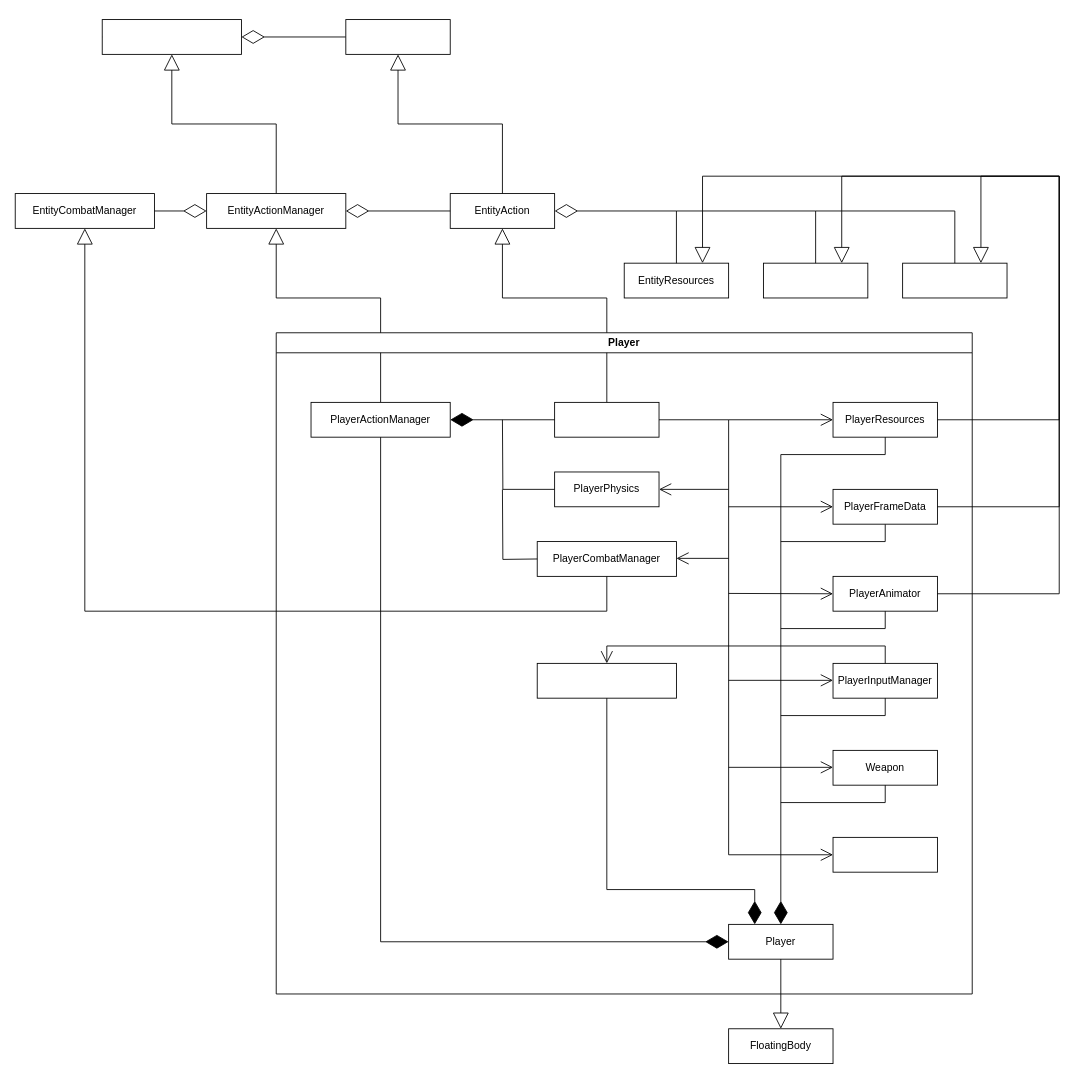
The diagram is 1090 pixels wide and 1079 high, and some of its shapes have lost their labels. The box of each missing label's shape, as (x1, y1, x2, y2) in pixels:
BasicState: (345, 19, 450, 54)
BasicStateMachine: (101, 19, 241, 54)
EntityAnimator: (902, 262, 1007, 298)
EntityFrameData: (763, 262, 868, 298)
Hitbox: (832, 837, 937, 872)
PlayerAction: (554, 402, 659, 437)
PlayerCameraManager: (536, 663, 676, 698)
